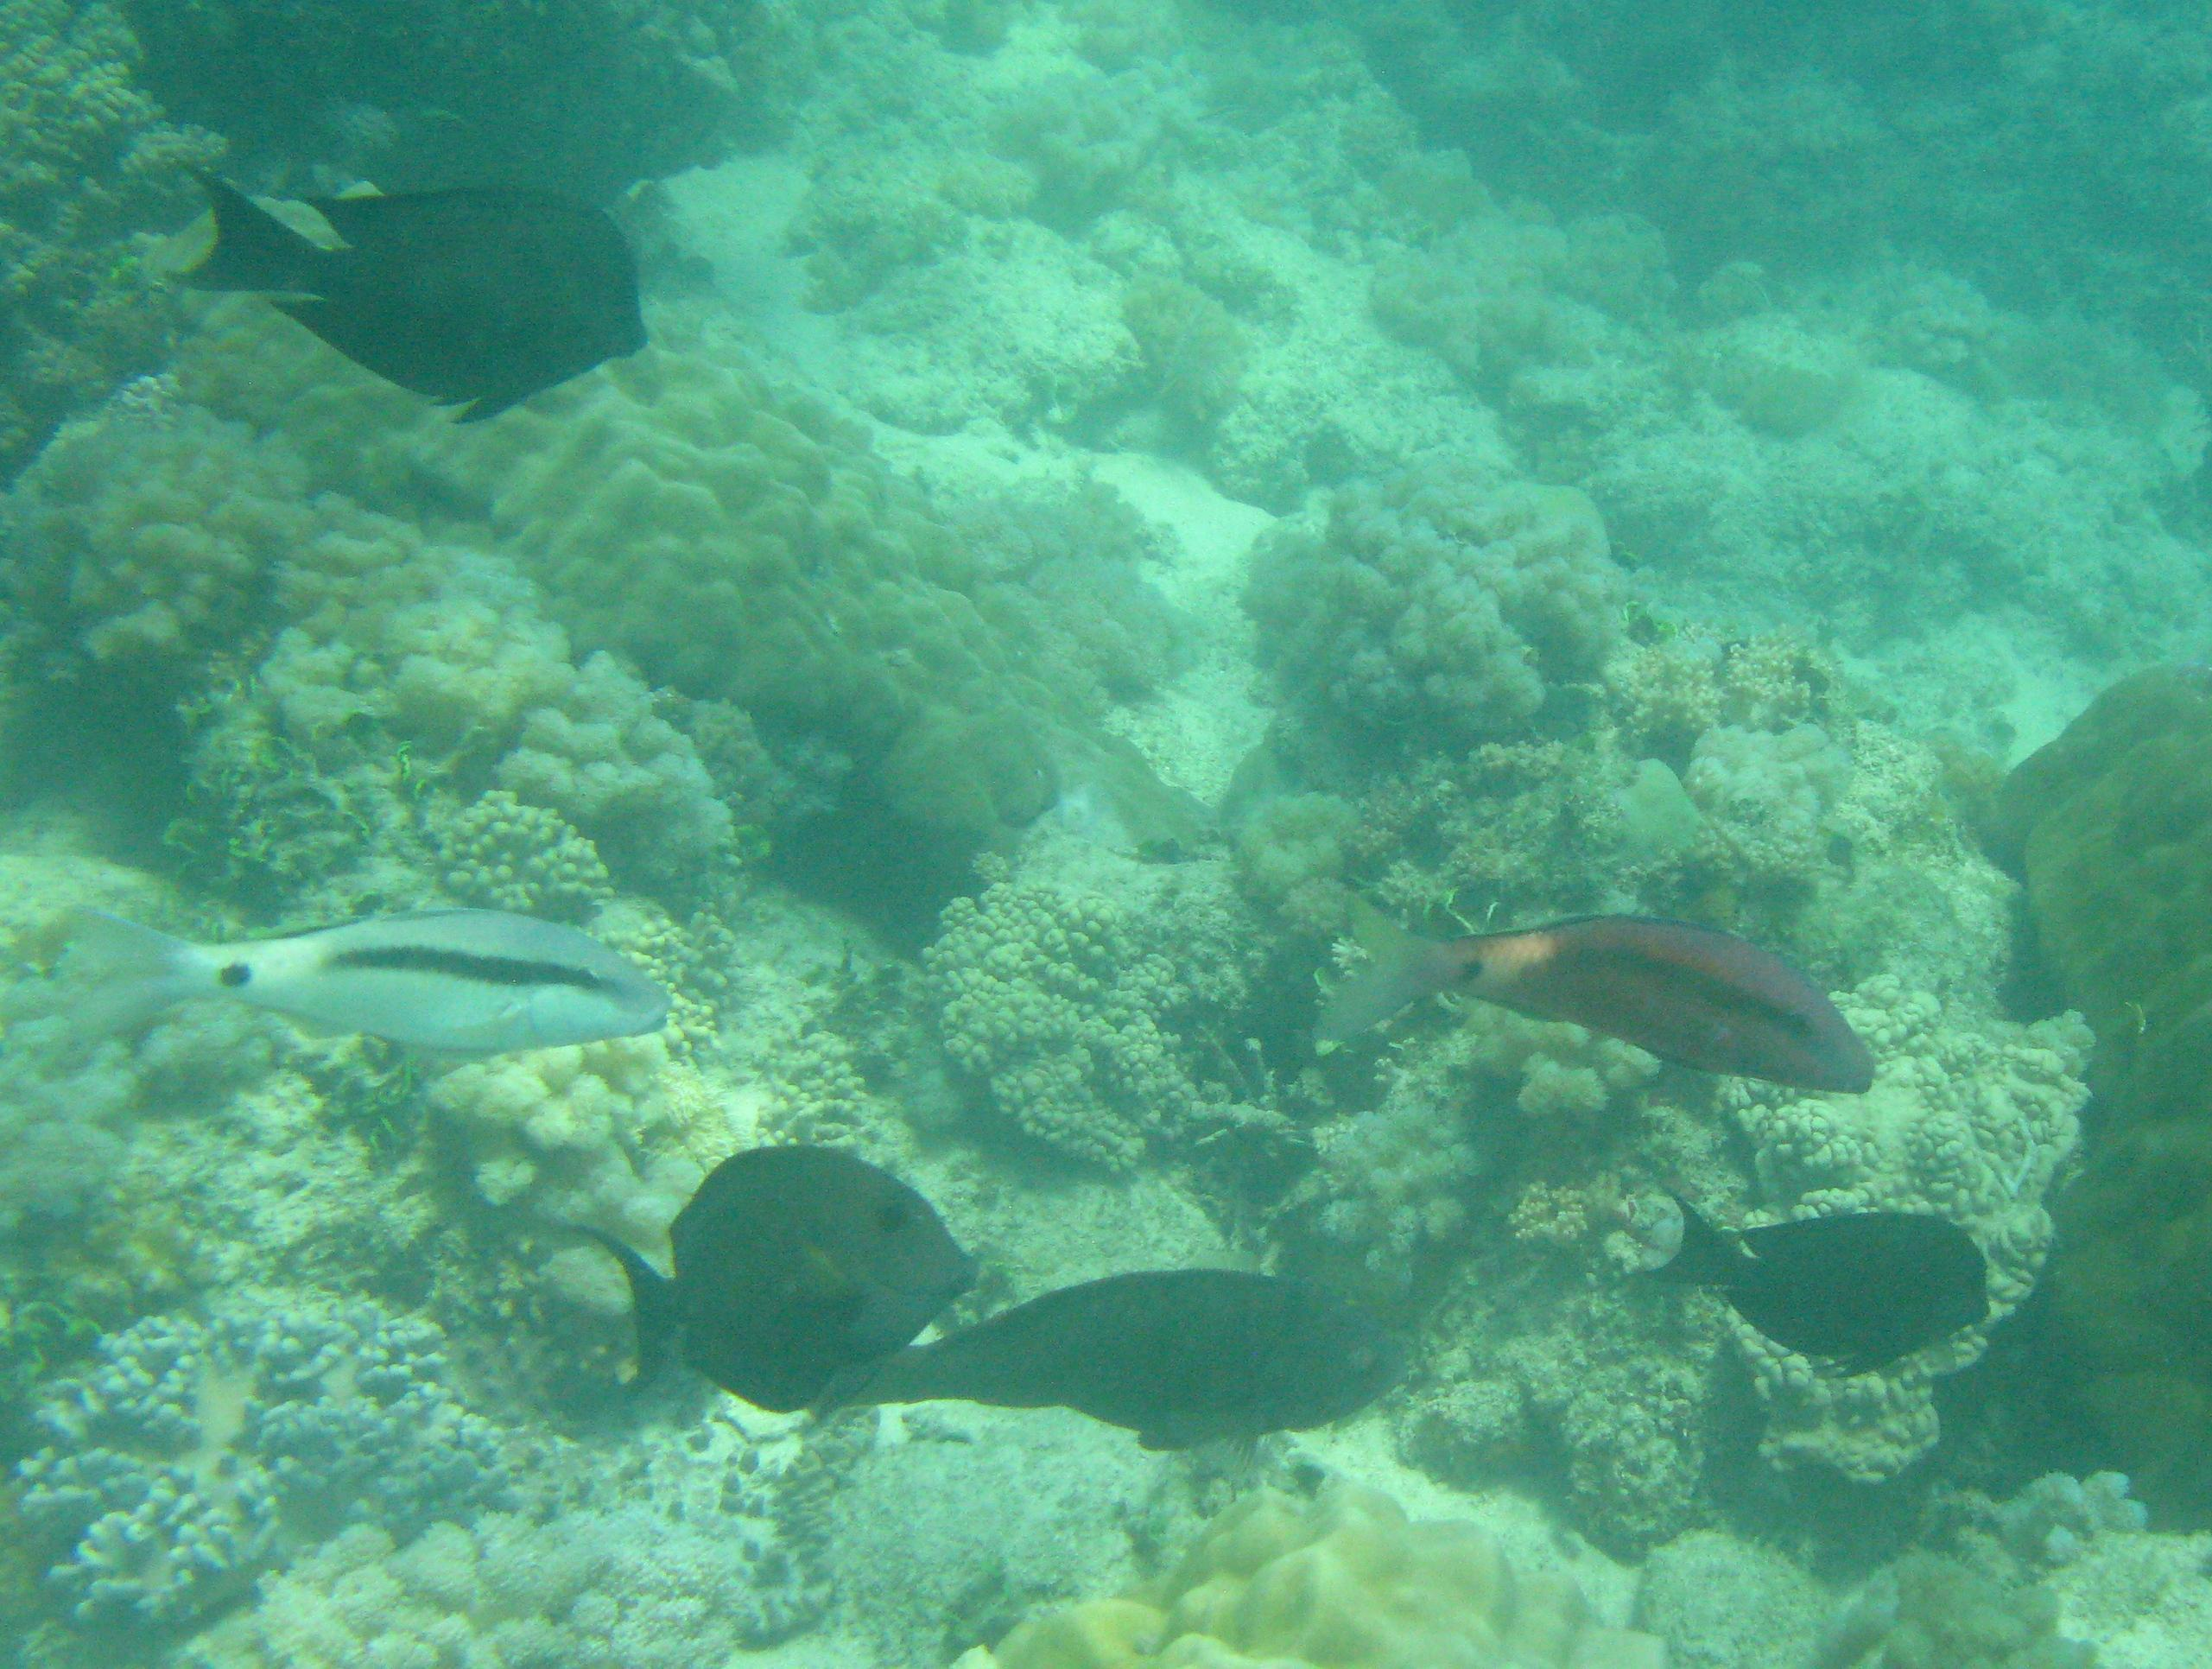Fish: (193, 878, 692, 1141)
